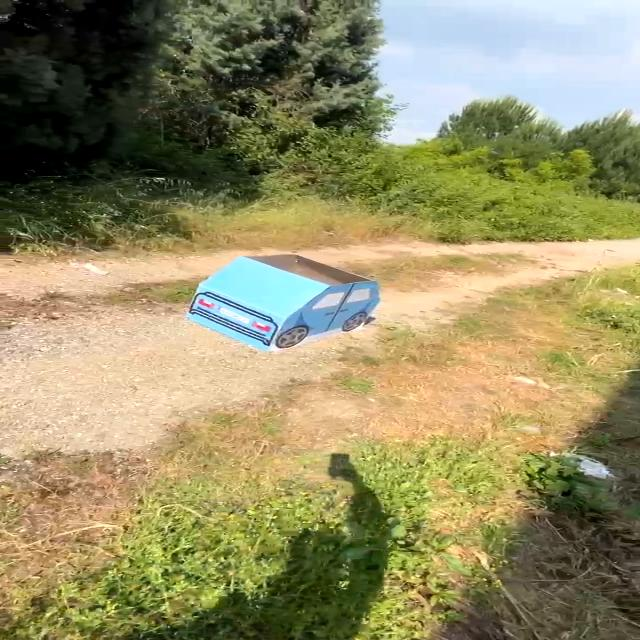blue_car: (178, 242, 401, 367)
